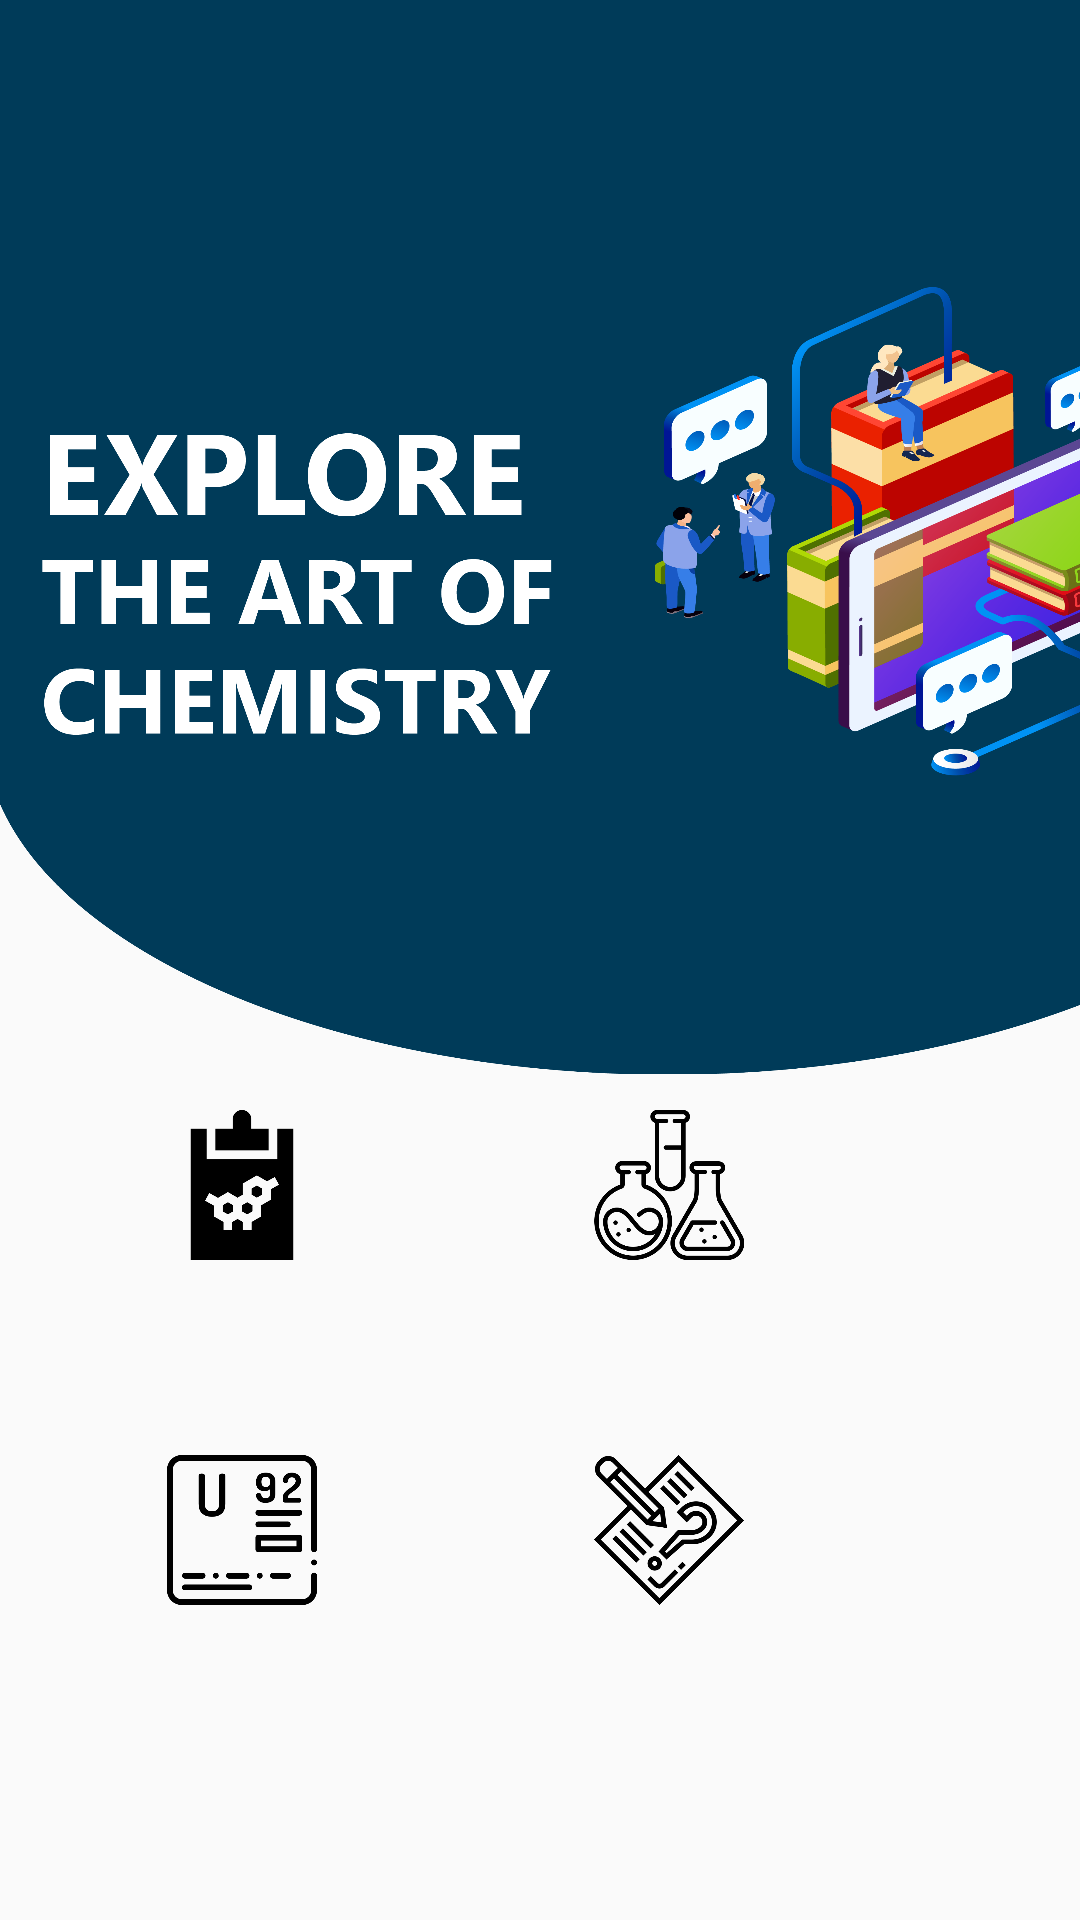

Named icons in this screenshot (1080 x 1920) and their centers, (x=x, y=y):
chemistry: (x=242, y=1185)
flasks: (x=669, y=1185)
uranium: (x=242, y=1530)
